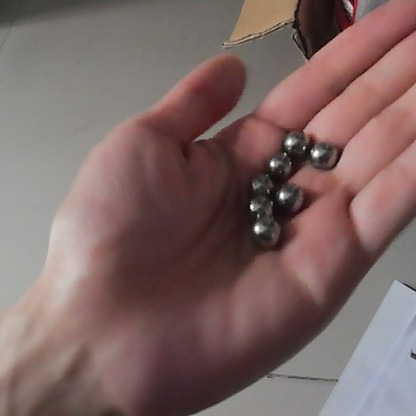ironball: (249, 214, 282, 249), (271, 176, 304, 210), (307, 139, 342, 170), (280, 125, 311, 157), (265, 150, 293, 177), (243, 194, 271, 221), (247, 175, 276, 200)
